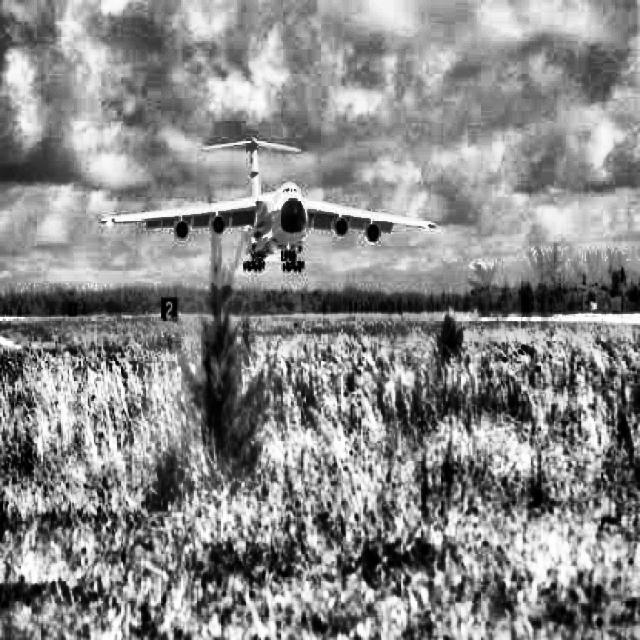C5: (99, 138, 436, 272)
